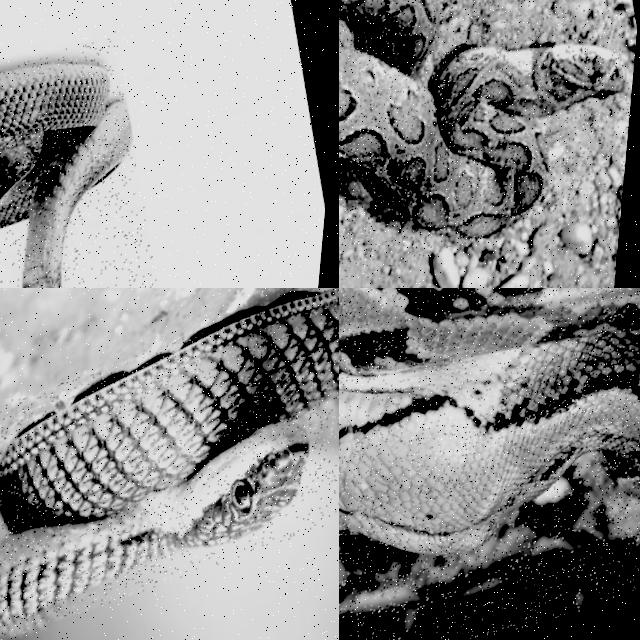Chrysopelea ornata: (0, 290, 338, 635)
Daboia siamensis: (339, 0, 626, 237)
Malayopython reticulatus: (339, 288, 639, 612)
Naja kaouthia: (0, 66, 129, 287)
snake: (0, 290, 338, 635), (339, 288, 639, 612), (339, 0, 626, 237), (0, 66, 129, 287)
